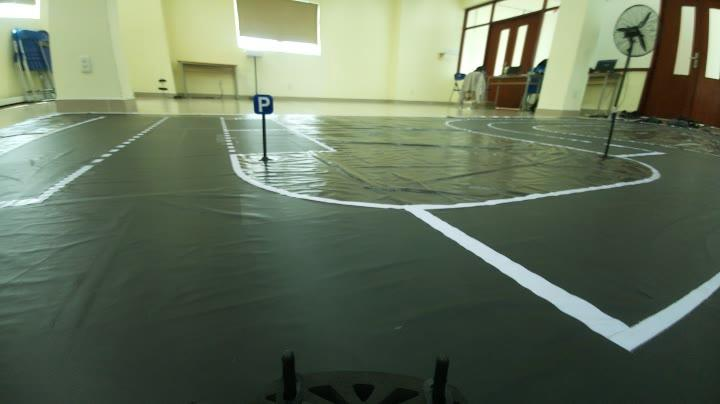parking: (244, 88, 278, 116)
